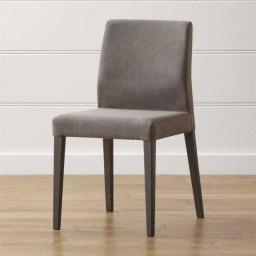Chair: (52, 21, 206, 235)
